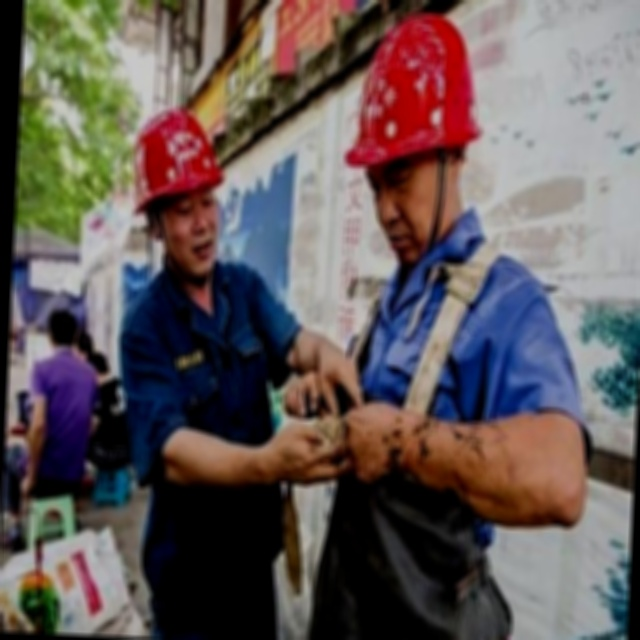Con_Casco: (339, 8, 478, 253), (132, 109, 221, 273)
